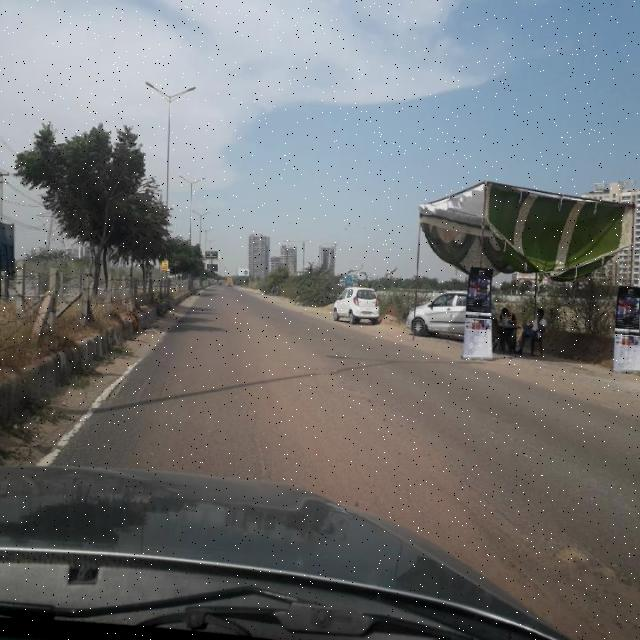D44: (10, 334, 164, 488)
